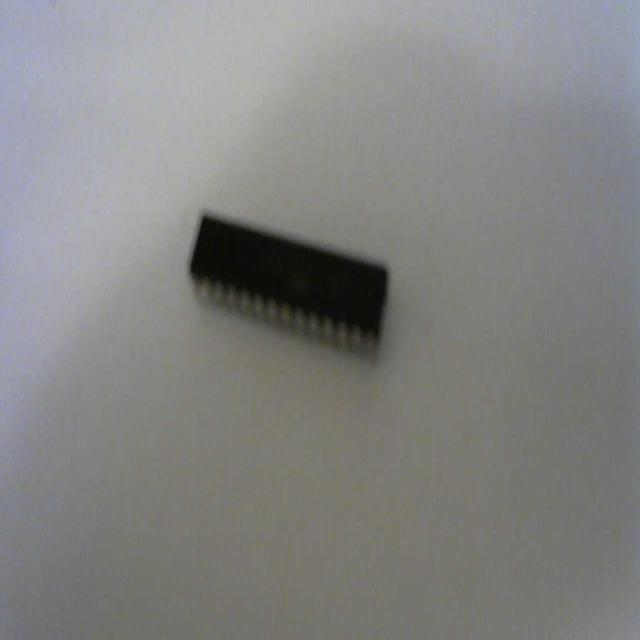atmega: (187, 205, 391, 364)
